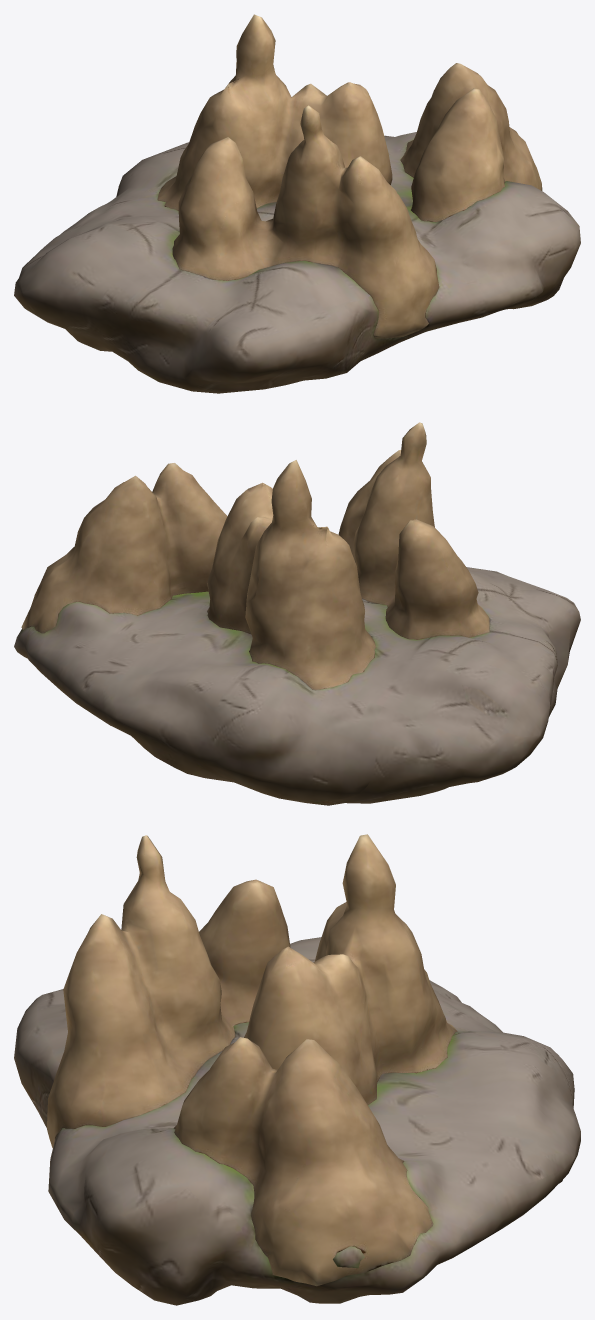
Rendered from drip_d.glb.
3 views of the same model, one above another, from view 1: azimuth 30°, elevation 25°; view 2: azimuth 150°, elevation 25°; view 3: azimuth 270°, elevation 25° (orthographic). The views are drawn at different scales.
Parts seen in each view (by area): view 1: rock, stone; view 2: rock, stone; view 3: stone, rock.
Part boxes in pixels (<box>): rock: <box>14,132,580,393</box>; stone: <box>157,14,542,338</box>; rock: <box>14,567,580,805</box>; stone: <box>21,422,489,690</box>; stone: <box>47,834,457,1286</box>; rock: <box>14,937,580,1305</box>.
Bounding box in the file's own units: 0.8691 × 0.4976 × 0.6784.
2 materials, 2 textured.
